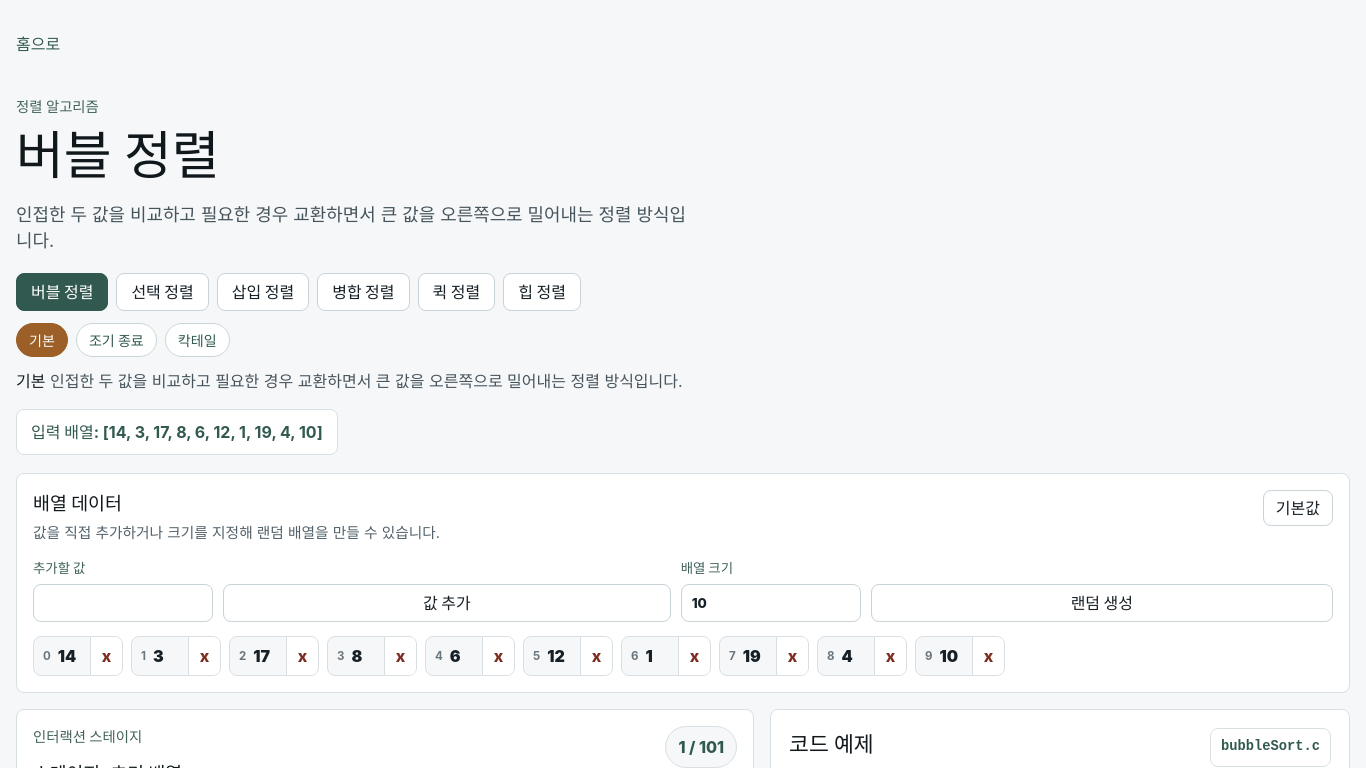
it: SortingPage › adds Heap Sort with build strategy variants
This screenshot has width=1366, height=768.
Click the tab "힙 정렬". click: x=542, y=292
box: [503,273,581,311]
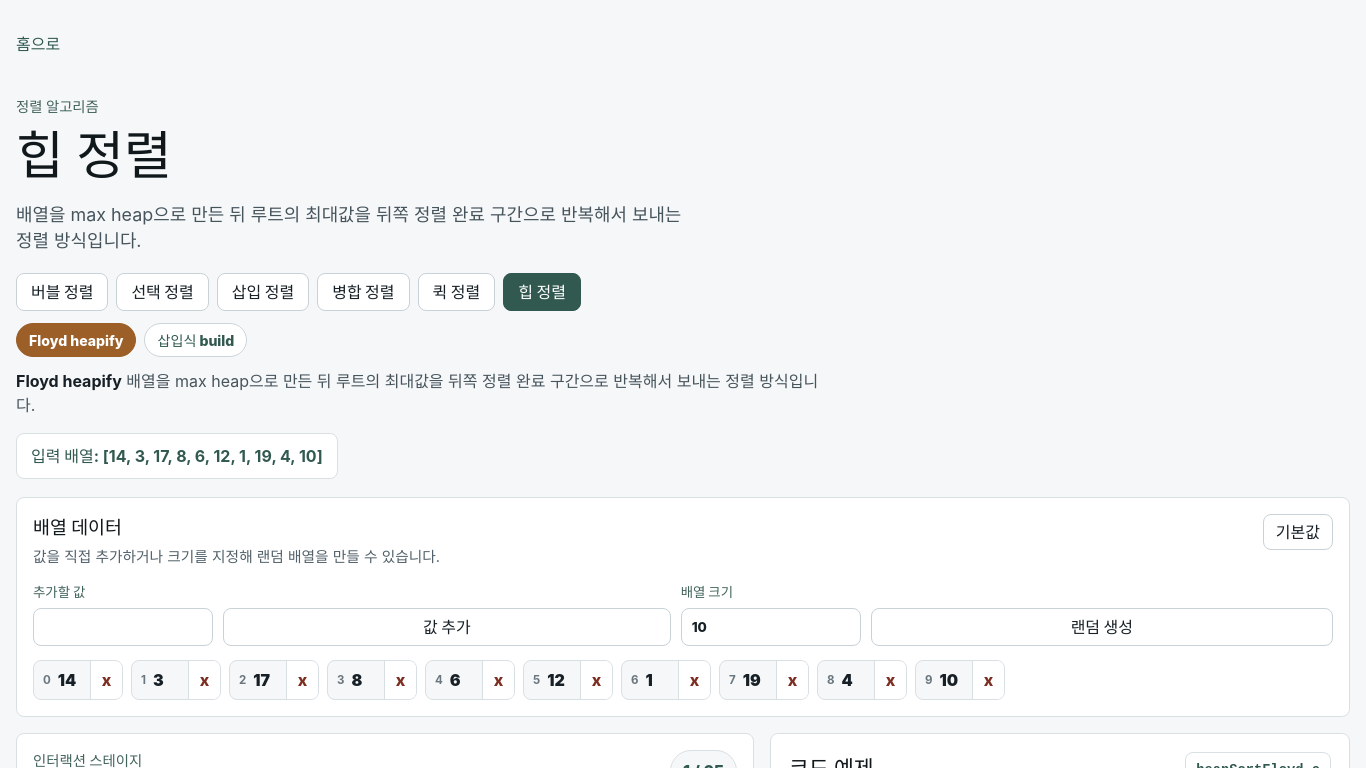
Check: the heading "힙 정렬" is shown, box [16,124,172,187]
Click the tab "삽입식 build". click: x=196, y=340
box: [144,323,247,357]
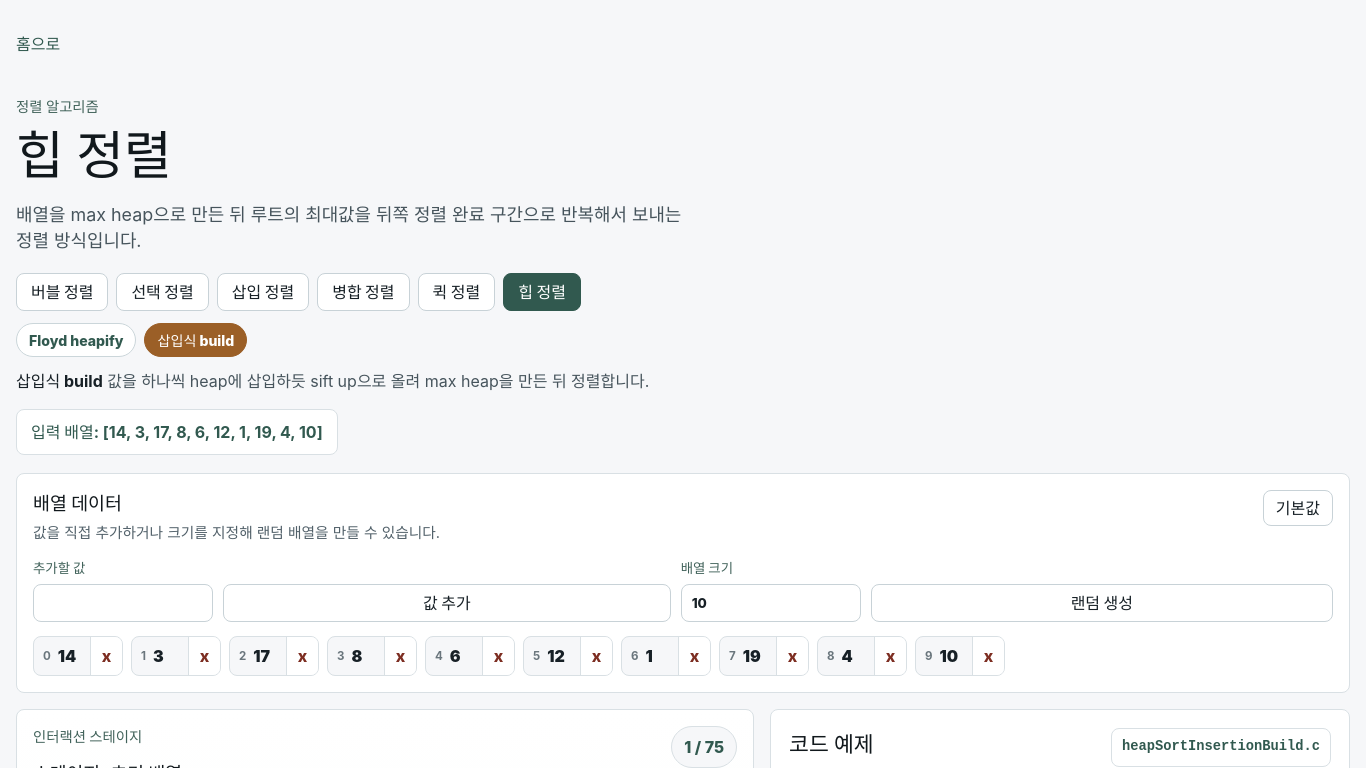
Check: the text "heapSortInsertionBuild.c" is shown, box [1111,728,1331,767]
